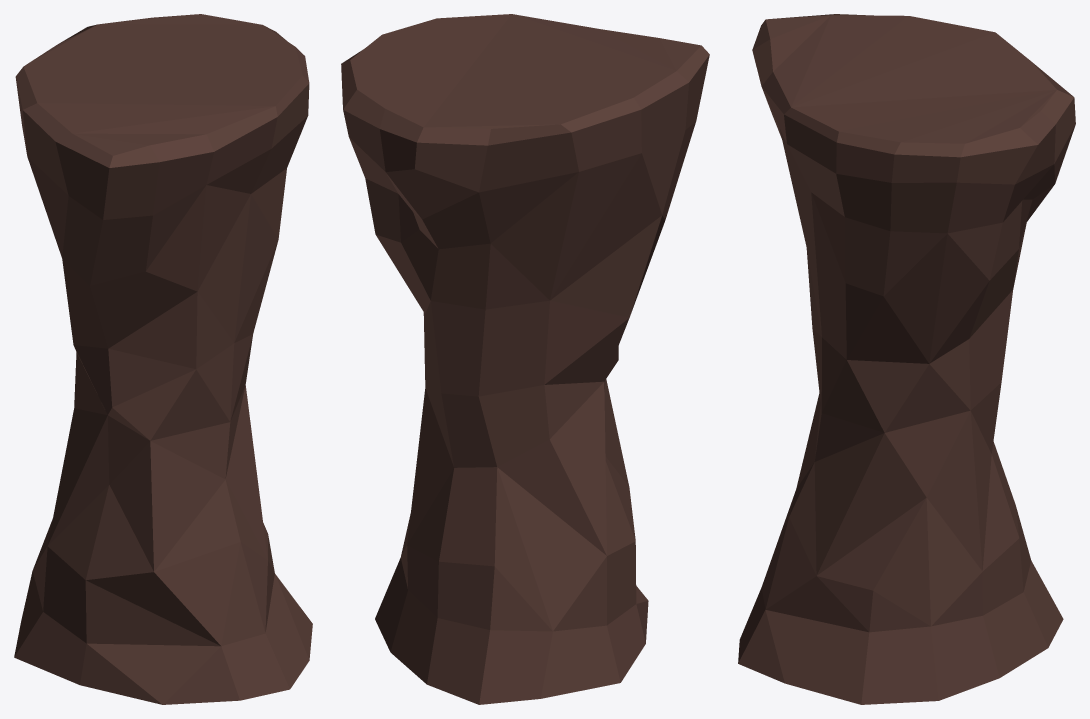
Rendered from Pillar-A11.fbx.
3 renders of one model, left to right at view 1: azimuth 30°, elevation 25°; view 2: azimuth 150°, elevation 25°; view 3: azimuth 270°, elevation 25°, orthographic.
Visible parts, largest first — view 1: Pillar-A11; view 2: Pillar-A11; view 3: Pillar-A11.
Boxes of the visible parts, x1,y1,x2,y2 form: Pillar-A11: (14, 14, 312, 704); Pillar-A11: (341, 14, 709, 704); Pillar-A11: (738, 14, 1075, 704).
Bounding box in the file's own units: 208 × 214 × 397.
